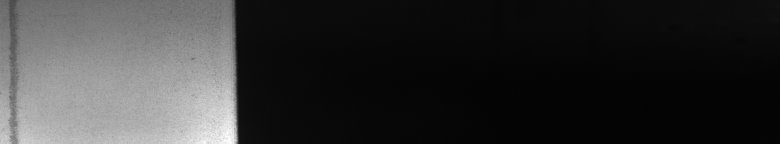hd: (4, 4, 24, 136)
